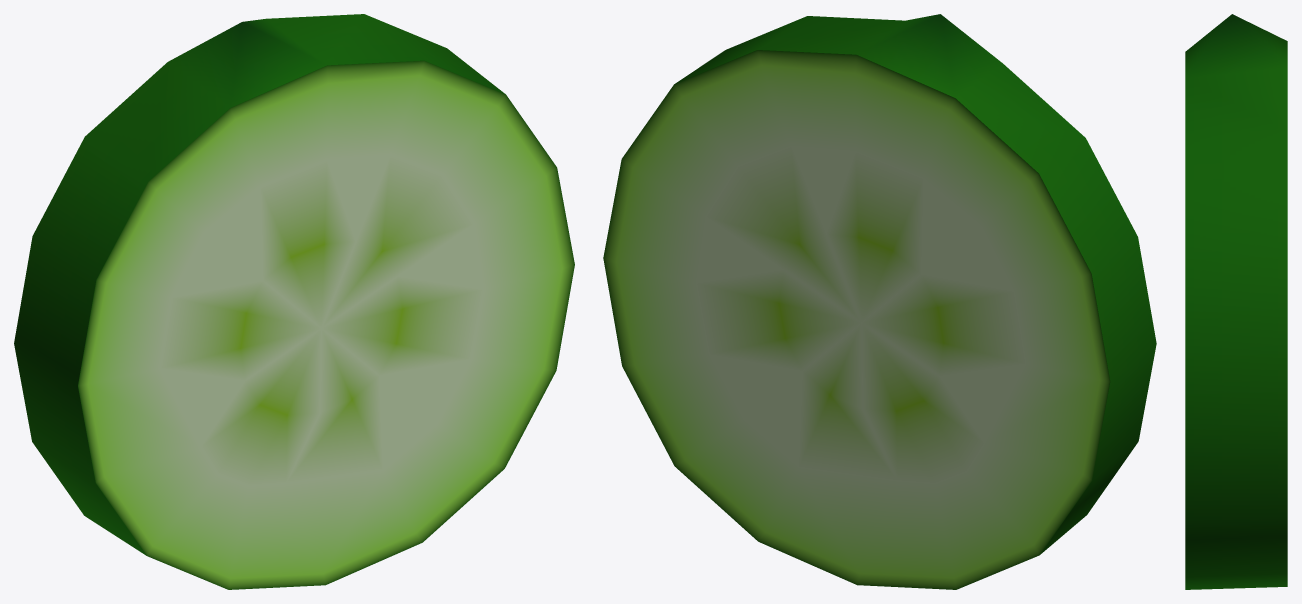
Rendered from Cucumber_Slice_08.fbx.
3 views of the same model, side by side, from view 1: azimuth 30°, elevation 25°; view 2: azimuth 150°, elevation 25°; view 3: azimuth 270°, elevation 25° (orthographic). The views are drawn at different scales.
Parts seen in each view (by area): view 1: Cucumber_Slice_08; view 2: Cucumber_Slice_08; view 3: Cucumber_Slice_08.
Boxes of the visible parts, x1,y1,x2,y2 form: Cucumber_Slice_08: (14,14,574,589); Cucumber_Slice_08: (603,14,1156,589); Cucumber_Slice_08: (1185,14,1287,589).
Size of the model in its own units: 4.58 by 4.84 by 0.8612.
